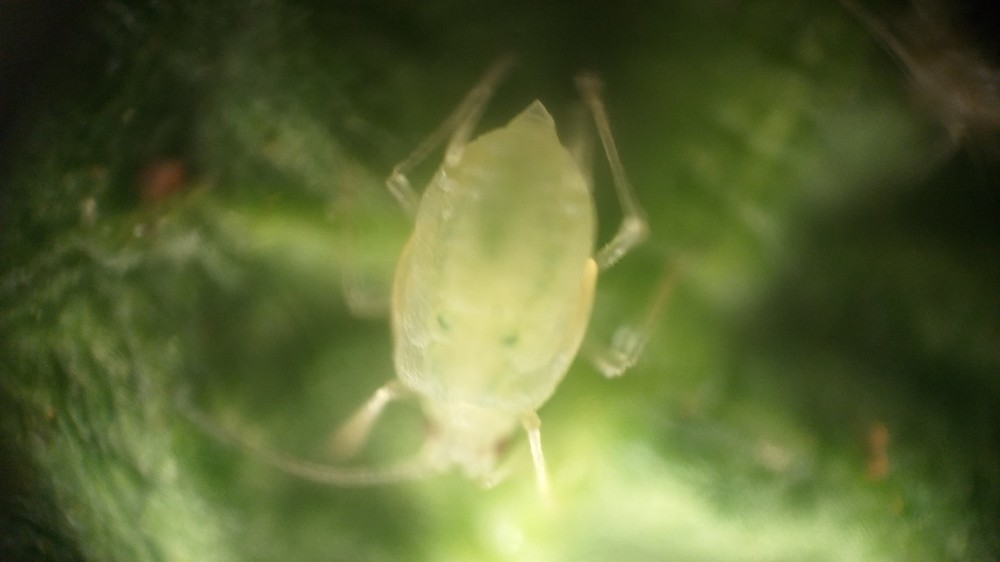Pulgon: (248, 25, 748, 548)
